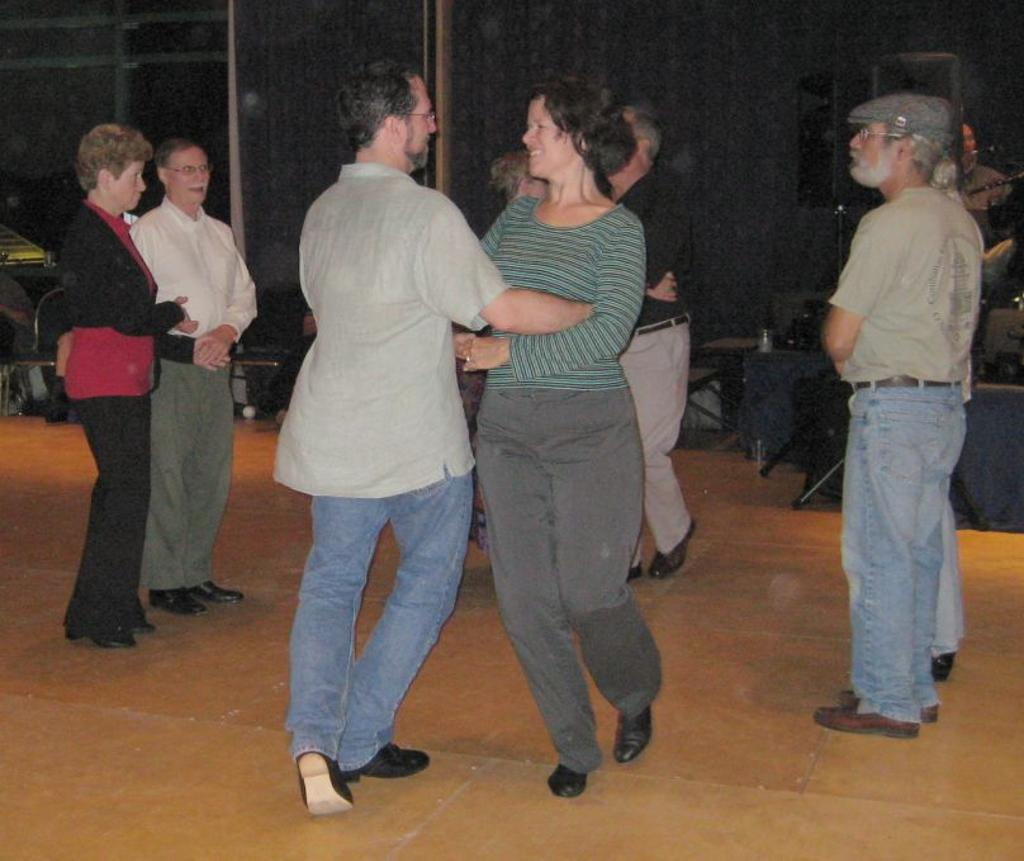face: (521, 98, 576, 178), (385, 87, 440, 158), (848, 115, 901, 180), (166, 150, 207, 205), (110, 157, 147, 206), (948, 124, 976, 169)
